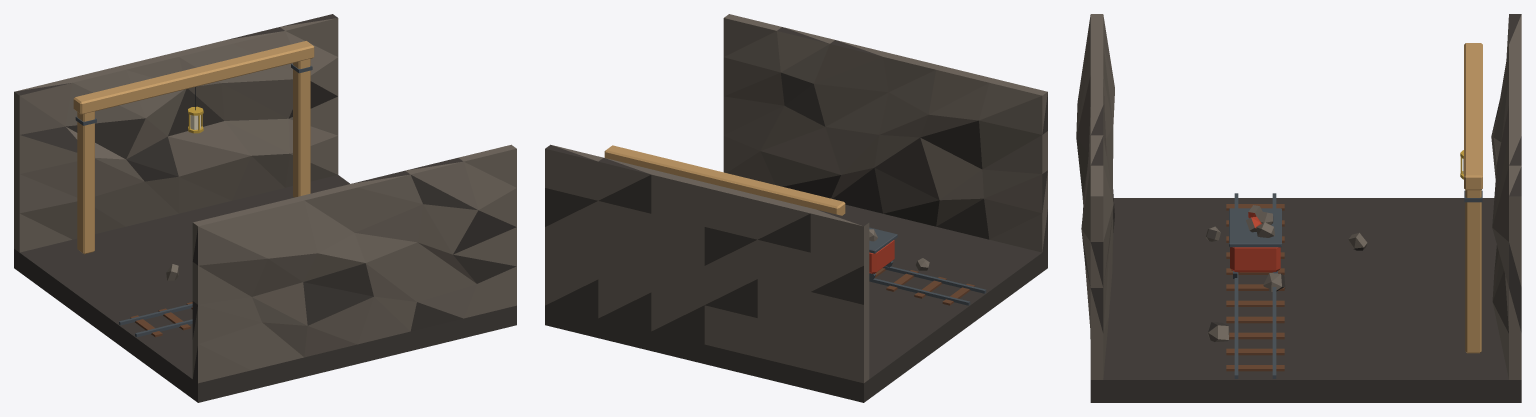
Rendered from Kit_Dug_Mines.fbx.
3 views of the same model, side by side, from view 1: azimuth 30°, elevation 25°; view 2: azimuth 150°, elevation 25°; view 3: azimuth 270°, elevation 25° (orthographic). The views are drawn at different scales.
Parts seen in each view (by area): view 1: FrontWall, BackRock, Floor, Timber, Decor; view 2: BackRock, FrontWall, Floor, Timber, Decor, Cart; view 3: Floor, FrontWall, BackRock, Decor, Timber, Cart.
Boxes of the visible parts, bbox=[...] form: FrontWall: bbox=[192, 144, 516, 383]; BackRock: bbox=[14, 14, 338, 252]; Floor: bbox=[14, 175, 516, 402]; Timber: bbox=[73, 41, 314, 254]; Decor: bbox=[75, 64, 312, 337]; BackRock: bbox=[545, 144, 869, 383]; FrontWall: bbox=[723, 14, 1047, 252]; Floor: bbox=[545, 204, 1047, 402]; Timber: bbox=[604, 145, 845, 215]; Decor: bbox=[869, 229, 986, 305]; Cart: bbox=[869, 227, 897, 273]; Floor: bbox=[1090, 198, 1521, 402]; FrontWall: bbox=[1076, 14, 1114, 379]; BackRock: bbox=[1491, 14, 1521, 379]; Decor: bbox=[1205, 150, 1482, 378]; Timber: bbox=[1464, 43, 1482, 353]; Cart: bbox=[1229, 208, 1281, 272].
Bounding box in the file's own units: 34 × 18 × 35.13.
